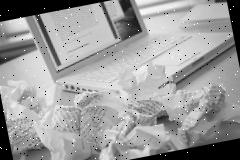paper: (90, 100, 186, 160), (31, 109, 94, 160), (114, 56, 177, 106)
